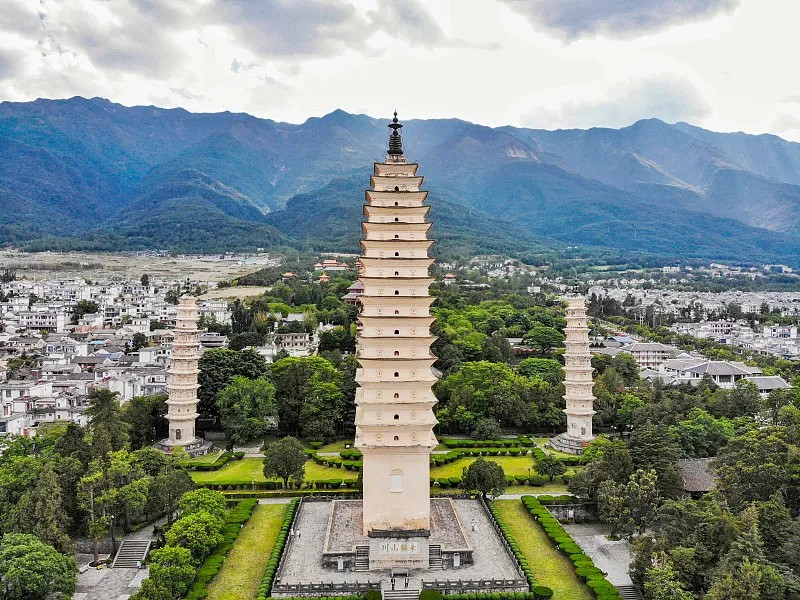ThreePagoda: (353, 108, 439, 535)
